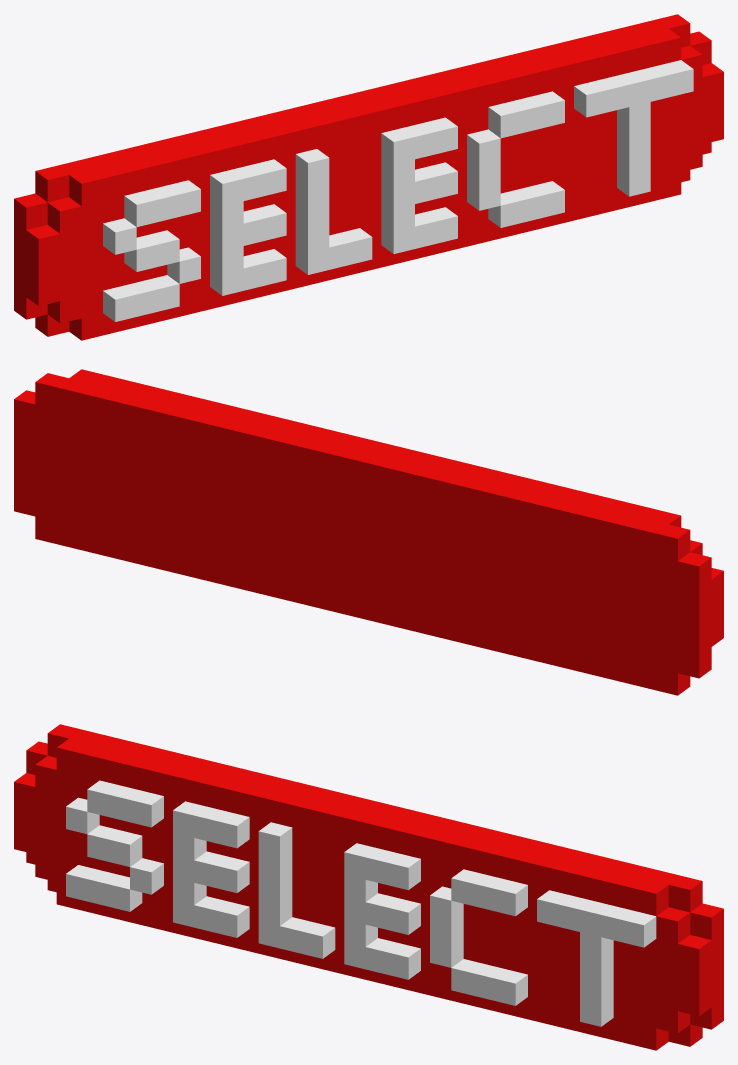
The model's file is select.obj.
The picture shows the model from 3 angles, top to bottom: view 1: azimuth 30°, elevation 25°; view 2: azimuth 150°, elevation 25°; view 3: azimuth 330°, elevation 25°; orthographic projection.
Visible parts, largest first — view 1: select; view 2: select; view 3: select.
Part boxes in pixels (x1,y1,x2,y2): select: (14,14,723,340); select: (14,369,723,695); select: (14,724,723,1050).
Size of the model in its own units: 32 by 7 by 3.
Materials: 1 (1 with a texture image).
